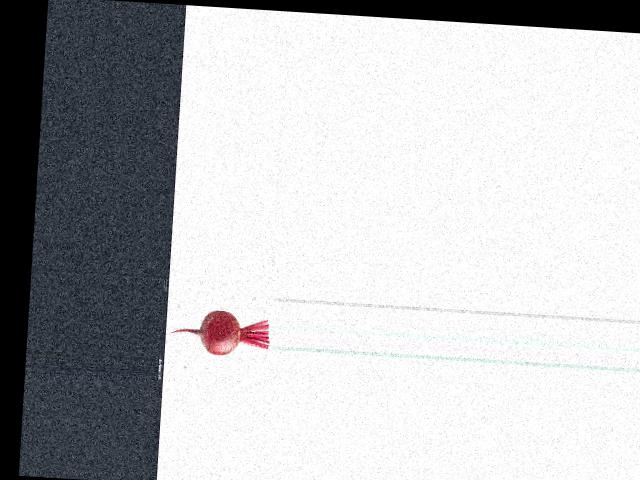beet: (167, 307, 271, 357)
